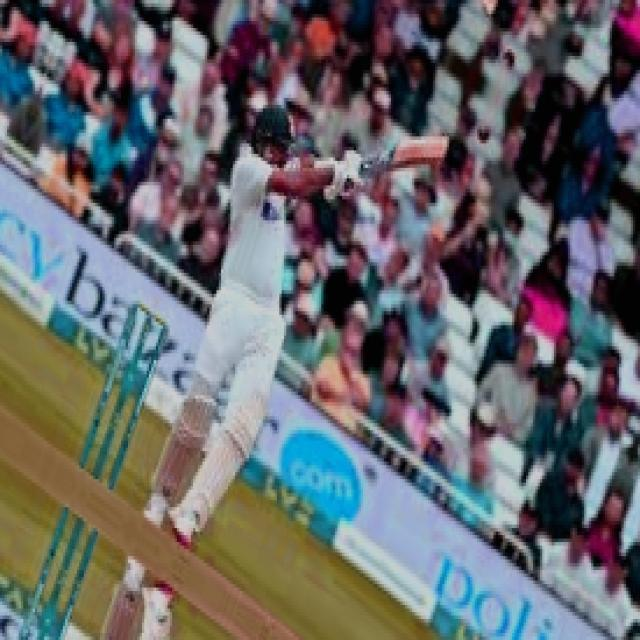toe: (436, 129, 454, 167)
